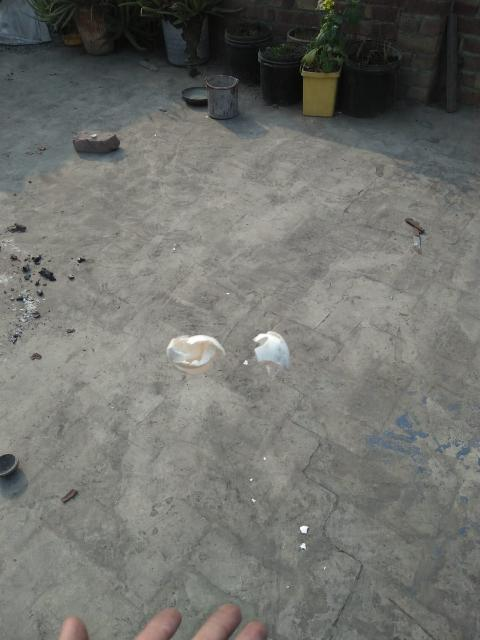Roto: (166, 333, 226, 375), (252, 329, 292, 376), (298, 523, 310, 550), (90, 133, 97, 138)
